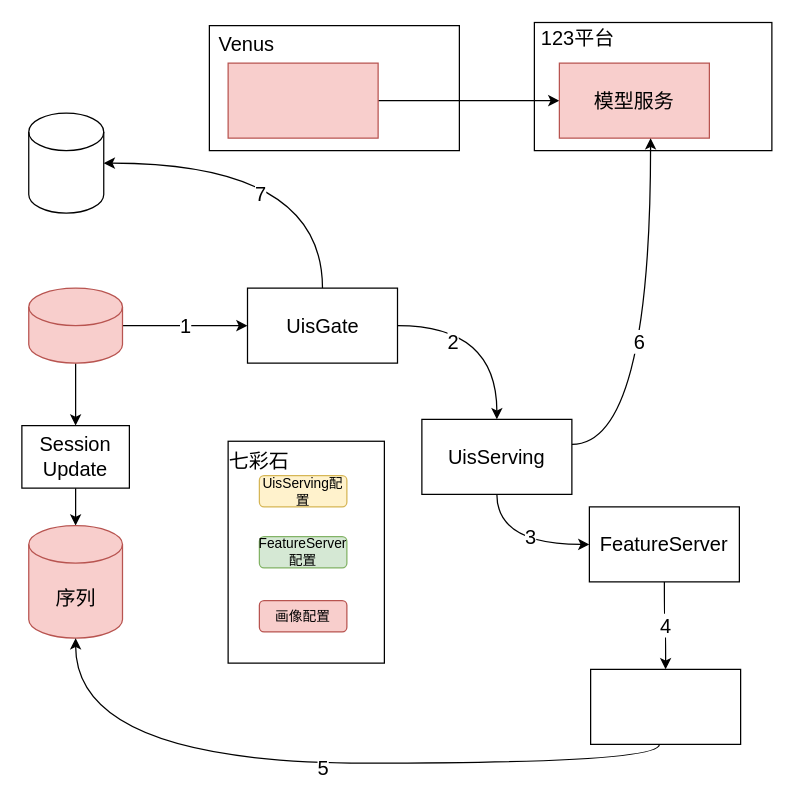
The diagram is 794 pixels wide and 800 high, and some of its shapes have lost their labels. The shapes that lost their labels are listed below. From the top down, each one's centre as x and y in pixels, then its label:
At pixel 302 100: "模型".
At pixel 66 162: "BDB".
At pixel 75 325: "消息队列".
At pixel 665 706: "Session_server".
